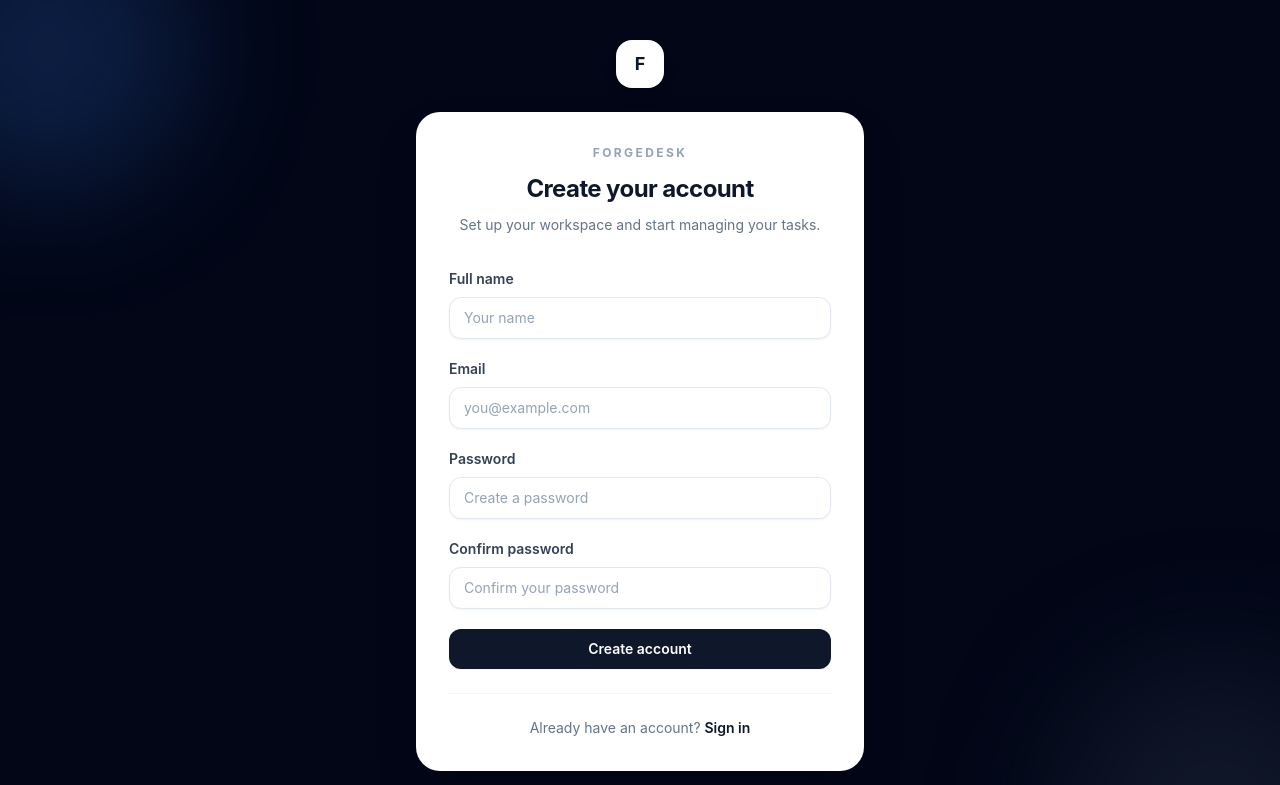
Scenario: Register › displays an API error when registration fails
Type "Test User" into the field labelled "Full name" at (640,318), box top-left (449, 297), bottom-right (831, 339)
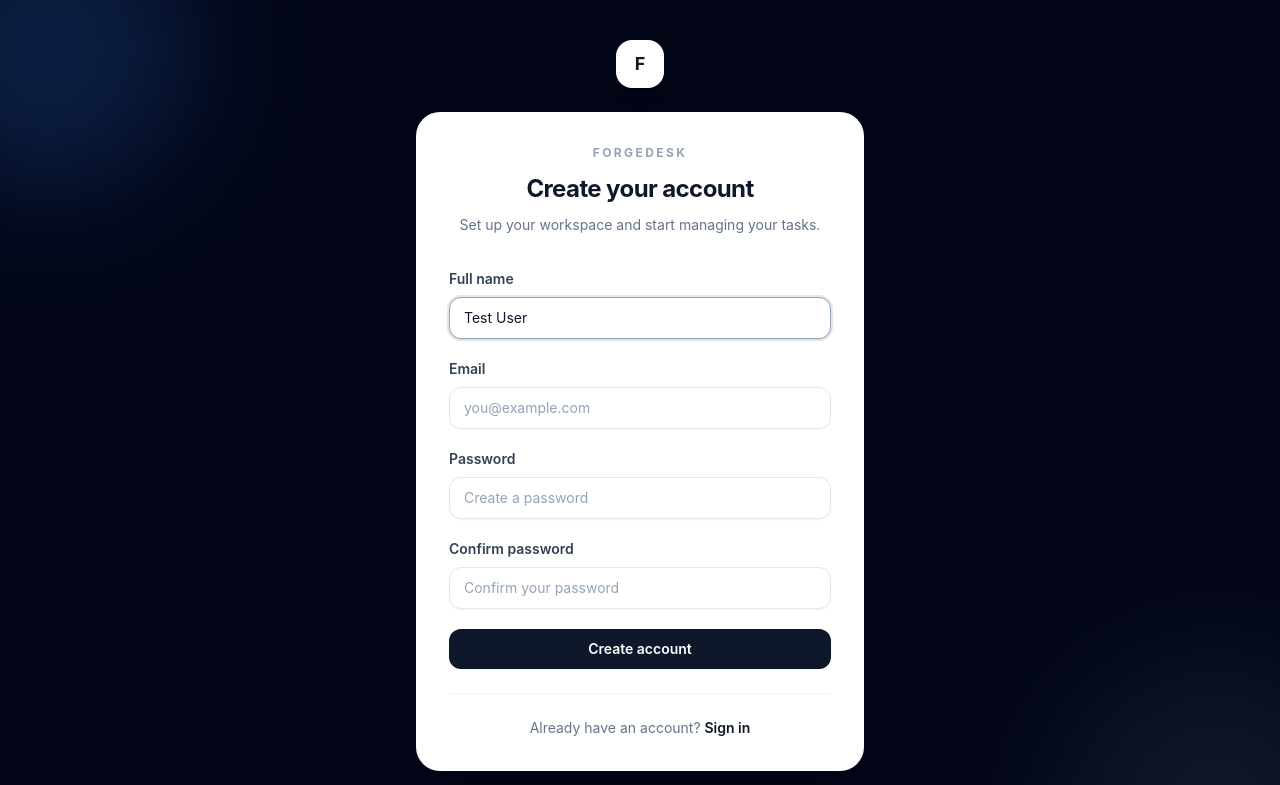
Type "test@example.com" into the field labelled "Email" at (640,408), box top-left (449, 387), bottom-right (831, 429)
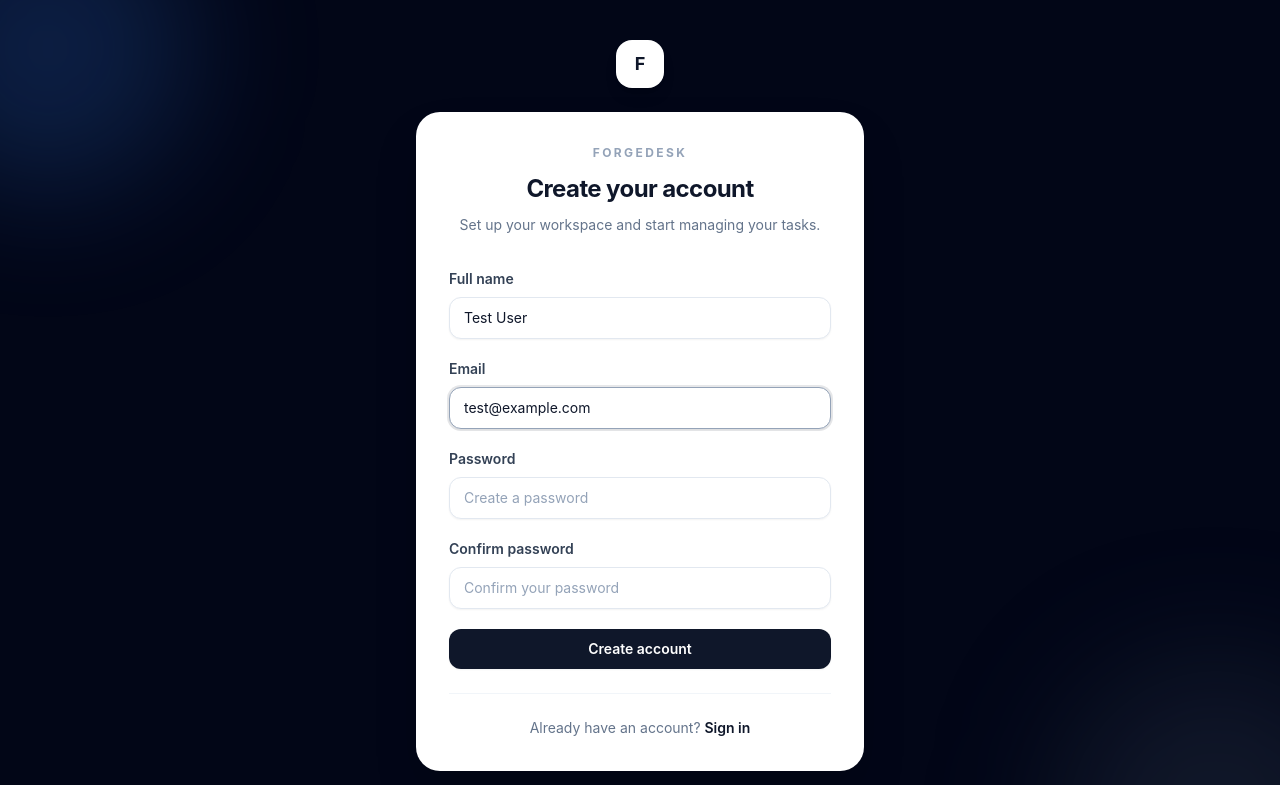
Type "TestPassword123" into the password field labelled "Password" at (640,498), box top-left (449, 477), bottom-right (831, 519)
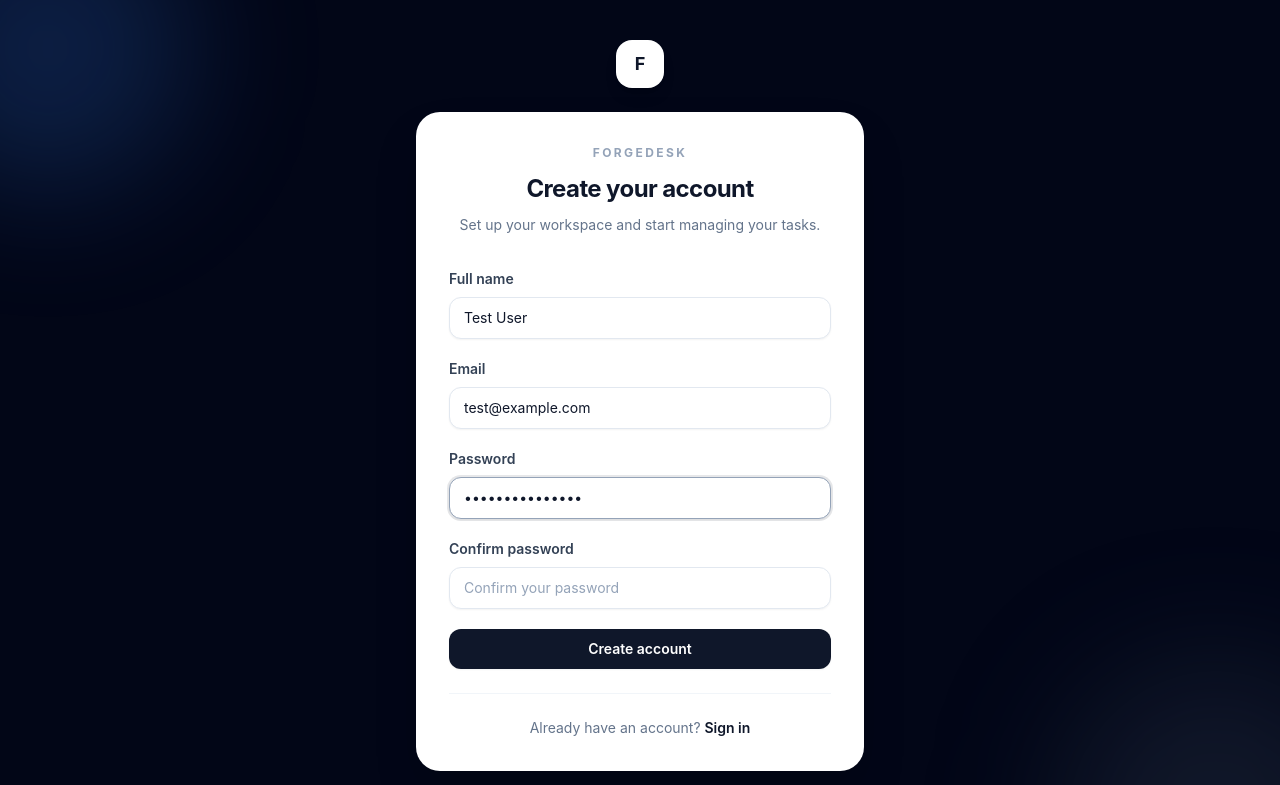
Type "TestPassword123" into the password field labelled "Confirm password" at (640,588), box top-left (449, 567), bottom-right (831, 609)
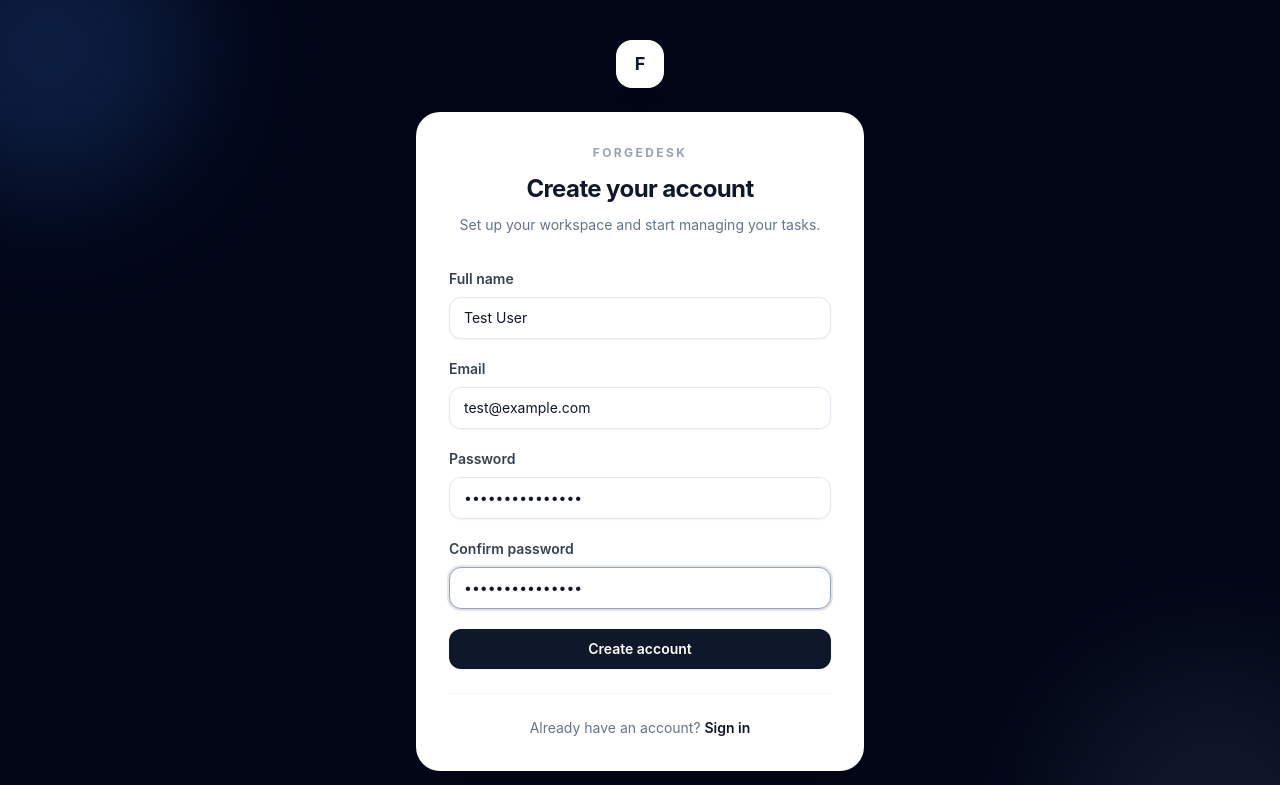
Click the button "Create account" at (640,649), box top-left (449, 629), bottom-right (831, 669)
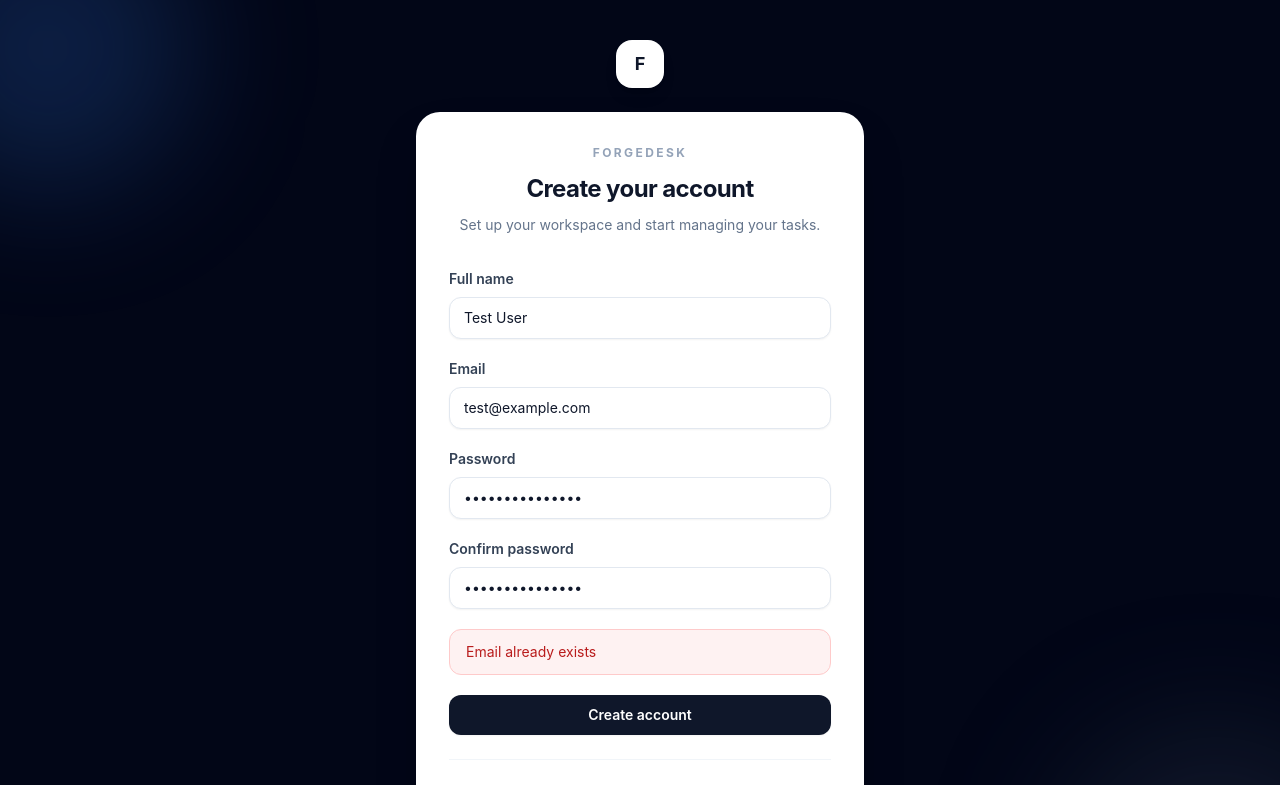
Check: the text "Email already exists" is shown, box top-left (449, 629), bottom-right (831, 675)
